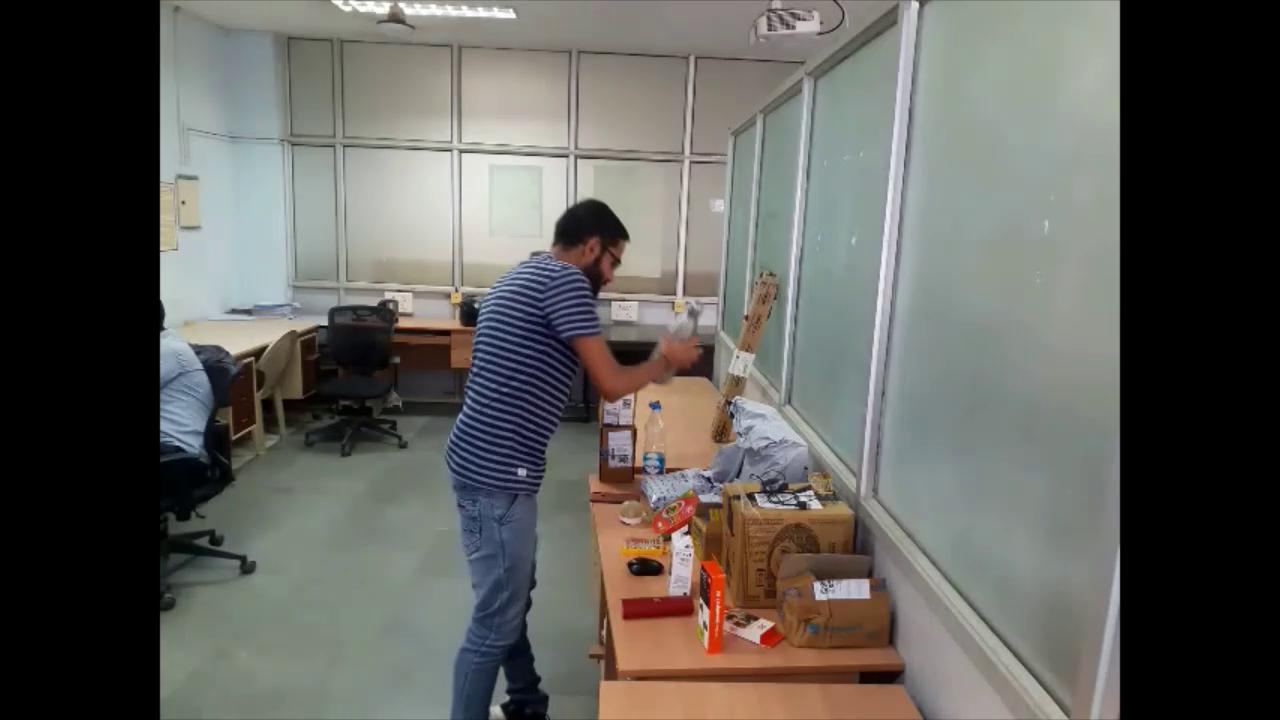Normal: (440, 198, 710, 720)
